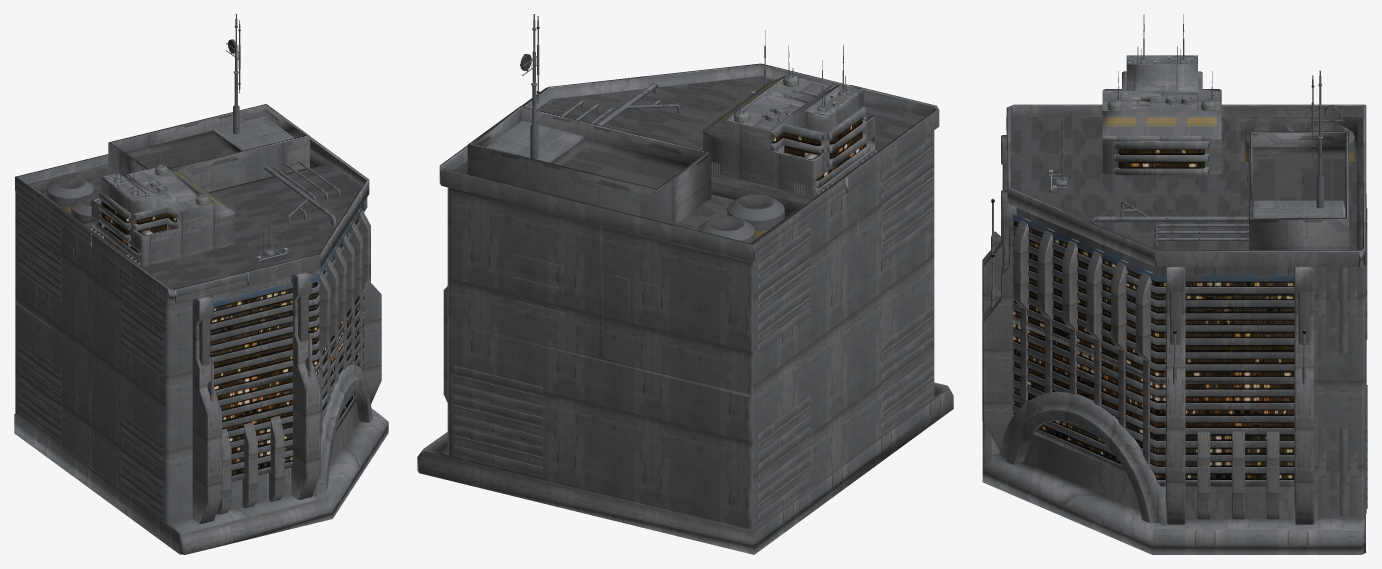
File: CityBlock020.fbx
3 views of the same model, side by side, from view 1: azimuth 30°, elevation 25°; view 2: azimuth 150°, elevation 25°; view 3: azimuth 270°, elevation 25° (orthographic). The views are drawn at different scales.
Parts seen in each view (by area): view 1: SMCGBlock60_12073.Shape; view 2: SMCGBlock60_12073.Shape; view 3: SMCGBlock60_12073.Shape.
Boxes of the visible parts, left/top/right/bottom form: SMCGBlock60_12073.Shape: left=14, top=14, right=388, bottom=554; SMCGBlock60_12073.Shape: left=417, top=14, right=953, bottom=554; SMCGBlock60_12073.Shape: left=982, top=14, right=1367, bottom=554.
Size of the model in its own units: 724 by 943 by 748.
